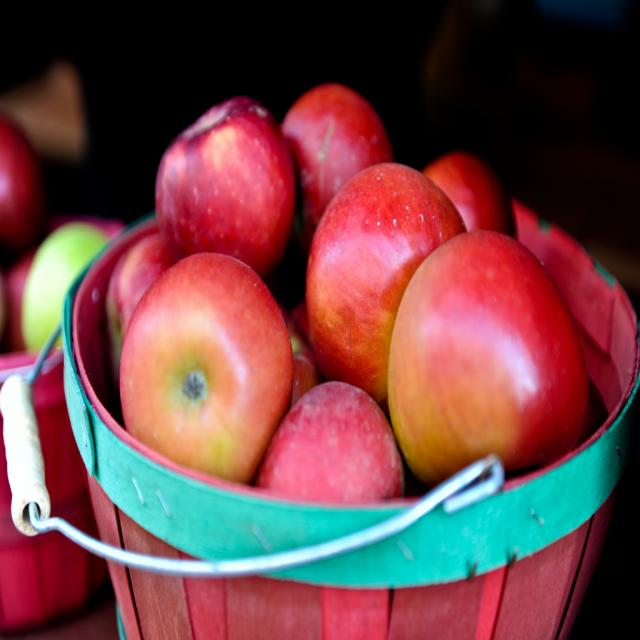Healty Apple: (102, 82, 522, 507), (386, 224, 589, 470), (20, 221, 110, 358), (0, 111, 43, 243)
